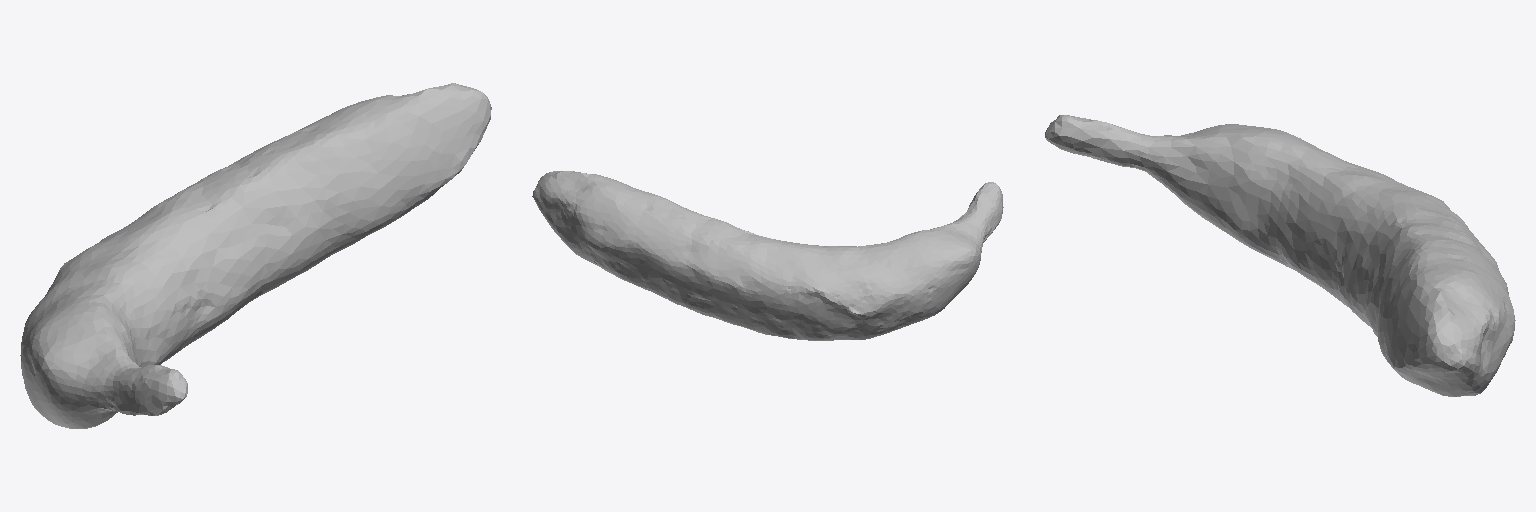
The robot description file, URDF, robot "root":
<robot name="root">
  <link name="link_001">
    <visual>
      <origin xyz="0.022637 -0.084014 -0.022268" rpy="0 0 0"/>
      <geometry>
        <mesh filename="banana.obj" scale="1.0000E+00 1.0000E+00 1.0000E+00"/>
      </geometry>
      <material name="">
        <color rgba="7.50E-01 7.50E-01 7.50E-01 1"/>
      </material>
    </visual>
    <collision>
      <origin xyz="0.022637 -0.084014 -0.022268" rpy="0 0 0"/>
      <!-- <geometry>
        <mesh filename="banana_collision.obj" scale="1.0000E+00 1.0000E+00 1.0000E+00"/>
      </geometry> -->
      <geometry>
        <mesh filename="banana.obj" scale="1.0000E+00 1.0000E+00 1.0000E+00"/>
      </geometry>
    </collision>
  </link>
</robot>

--- What the picture shows (computed from the rendered views, not written in the file) ---
Views: 3 orthographic renders of the robot side by side, from view 1: azimuth 30°, elevation 25°; view 2: azimuth 150°, elevation 25°; view 3: azimuth 270°, elevation 25°.
Robot: root — 1 links, 0 joints (none); root link link_001; default pose: every joint at zero.
Visible links, largest first — view 1: link_001; view 2: link_001; view 3: link_001.
Link boxes in pixels (x1=…): link_001: x1=20, y1=83, x2=491, y2=428; link_001: x1=532, y1=171, x2=1003, y2=340; link_001: x1=1045, y1=115, x2=1515, y2=396.
Bounding box of the posed robot: 0.1704 × 0.1223 × 0.0545 m (x, y, z).
Meshes: 1 distinct files referenced, 1 mesh visuals loaded (1 OBJ).
